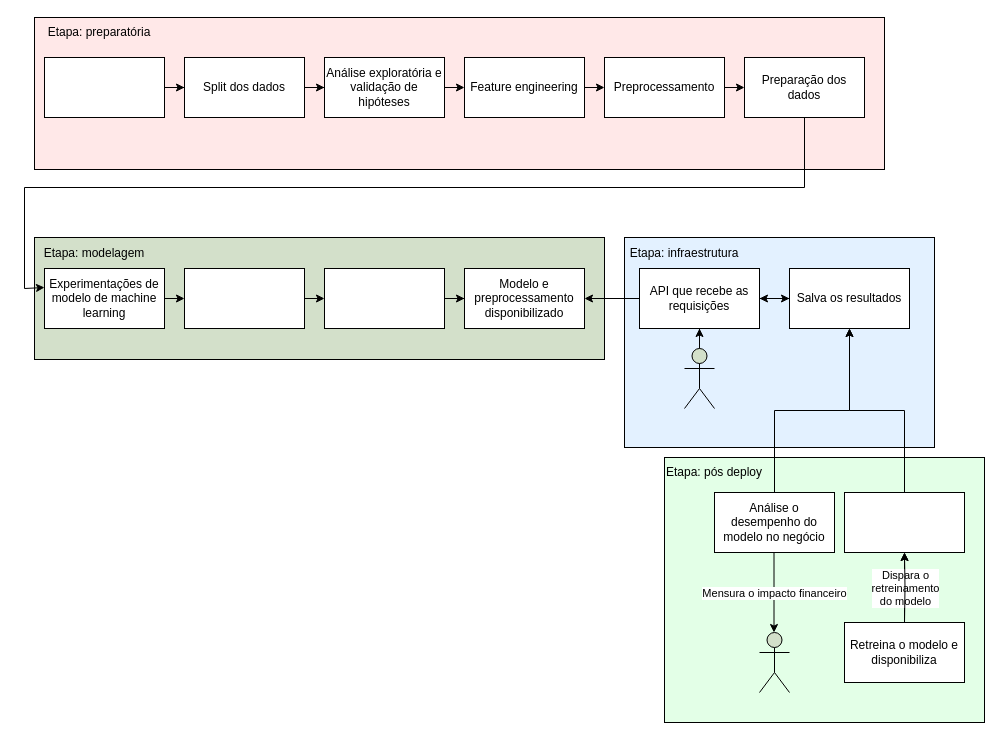
The diagram is 1002 pixels wide and 740 high, and some of its shapes have lost their labels. The box of each missing label's shape, as (x1, y1, x2, y2) in pixels:
Actor: (684, 348, 714, 408)
Analista: (758, 632, 790, 692)
Definição do modelo final: (184, 268, 304, 328)
Escolha dos hiperparâmetros: (324, 268, 444, 328)
Ingestão dos dados: (44, 56, 164, 118)
Monitora possíveis drifts do modelo: (844, 492, 964, 552)
